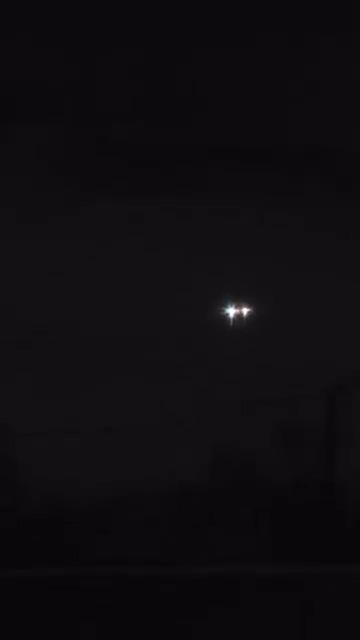Plane: (214, 293, 268, 330)
